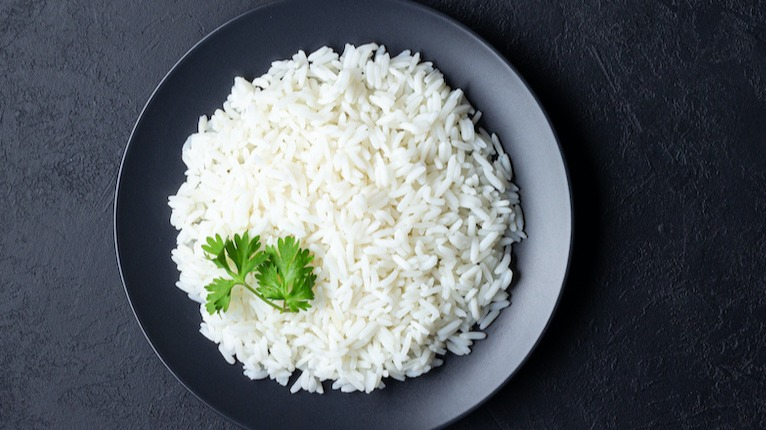rice-white-steamed: (169, 43, 527, 395)
